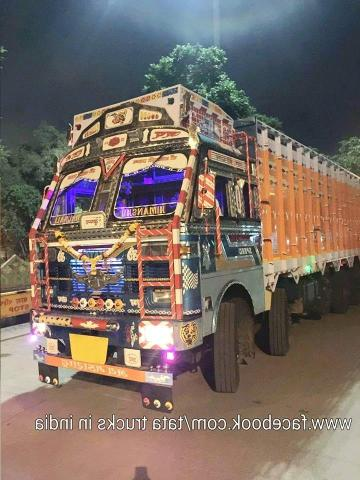truck: (21, 86, 360, 396)
